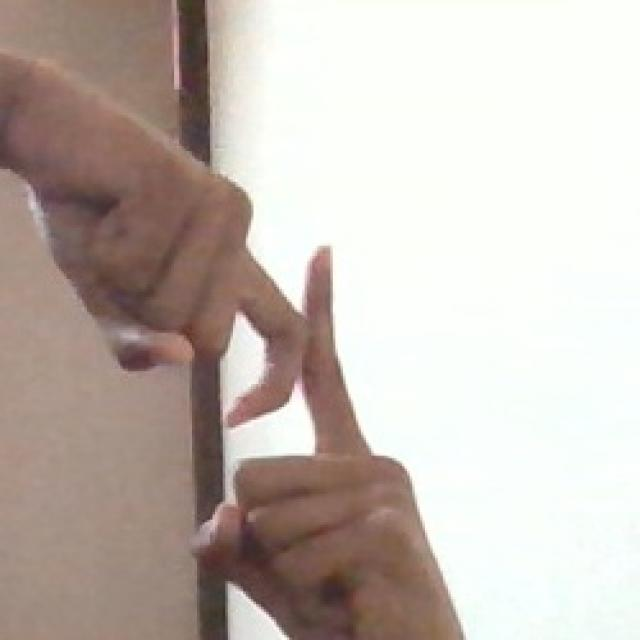Alphabet-K: (42, 78, 450, 640)
